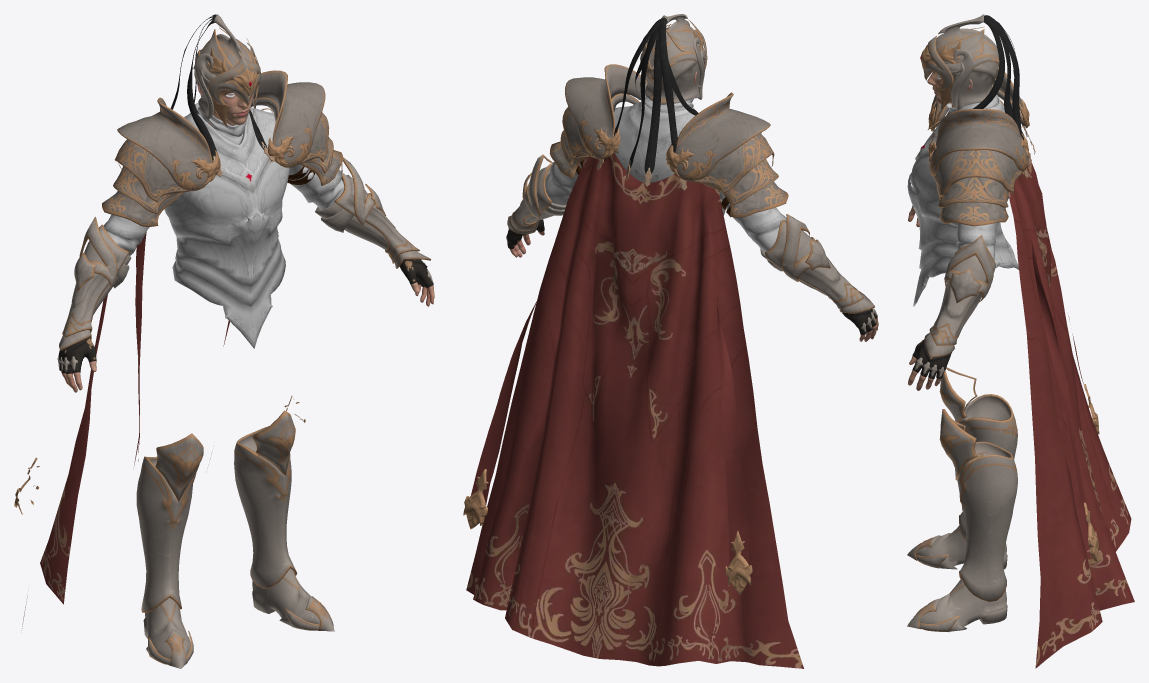
3 renders of one model, left to right at view 1: azimuth 30°, elevation 25°; view 2: azimuth 150°, elevation 25°; view 3: azimuth 270°, elevation 25°, orthographic. The views are drawn at different scales.
Visible parts, largest first — view 1: GM_0041_T04_Body, GM_0041_T04_Boots, GM_0041_T04_Shoulder, GM_0041_T04_Glove, GM_0041_T04_Helmet, GM_0041_T04_Cape, GM_BaseHead; view 2: GM_0041_T04_Cape, GM_0041_T04_Shoulder, GM_0041_T04_Glove, GM_0041_T04_Helmet, GM_0041_T04_Body; view 3: GM_0041_T04_Cape, GM_0041_T04_Boots, GM_0041_T04_Shoulder, GM_0041_T04_Helmet, GM_0041_T04_Body, GM_0041_T04_Glove.
Boxes of the visible parts, x1,y1,x2,y2 form: GM_0041_T04_Body: [61, 103, 434, 392]; GM_0041_T04_Boots: [136, 410, 334, 668]; GM_0041_T04_Shoulder: [102, 70, 343, 226]; GM_0041_T04_Glove: [57, 157, 433, 373]; GM_0041_T04_Helmet: [170, 14, 274, 176]; GM_0041_T04_Cape: [14, 108, 305, 630]; GM_BaseHead: [197, 82, 254, 126]; GM_0041_T04_Cape: [463, 152, 803, 668]; GM_0041_T04_Shoulder: [549, 64, 788, 217]; GM_0041_T04_Glove: [506, 154, 877, 334]; GM_0041_T04_Helmet: [597, 14, 707, 190]; GM_0041_T04_Body: [510, 96, 878, 341]; GM_0041_T04_Cape: [1000, 100, 1134, 668]; GM_0041_T04_Boots: [907, 367, 1017, 631]; GM_0041_T04_Shoulder: [928, 72, 1029, 226]; GM_0041_T04_Helmet: [920, 14, 1035, 178]; GM_0041_T04_Body: [907, 94, 1018, 390]; GM_0041_T04_Glove: [912, 205, 995, 378].
Size of the model in its own units: 1.26 by 1.97 by 0.705.
9 materials, 8 textured.
